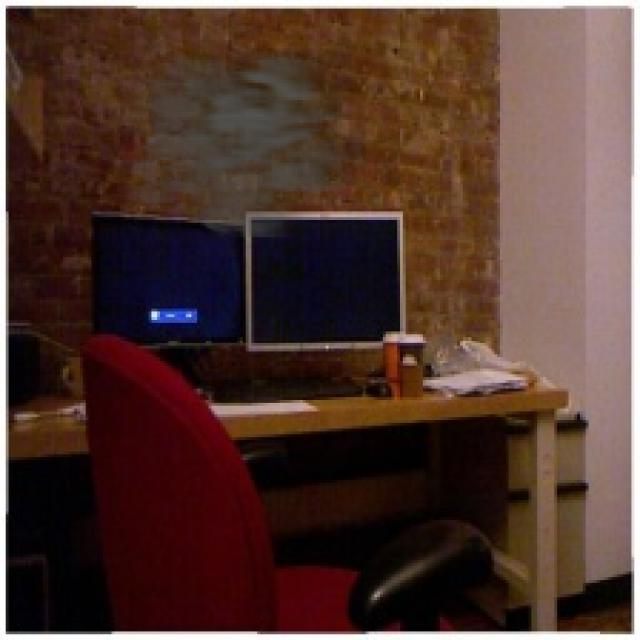smoke: (97, 37, 366, 237)
